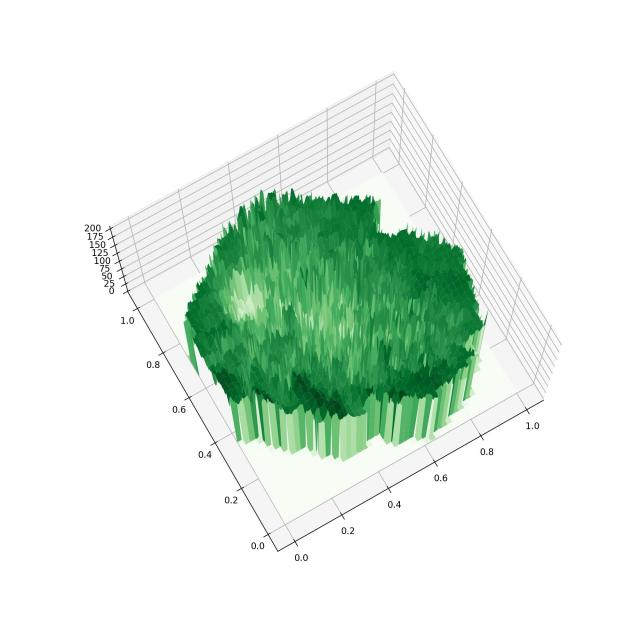trembling aspen: (52, 31, 606, 595)
